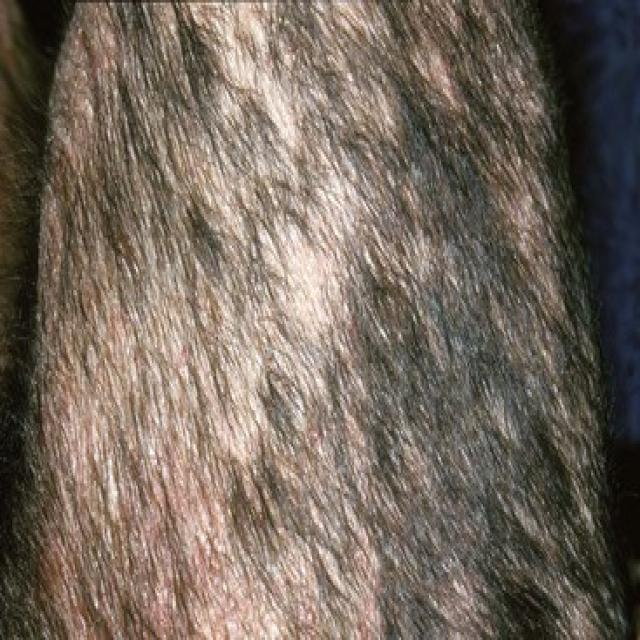allergic dermatitis: (45, 365, 284, 640)
